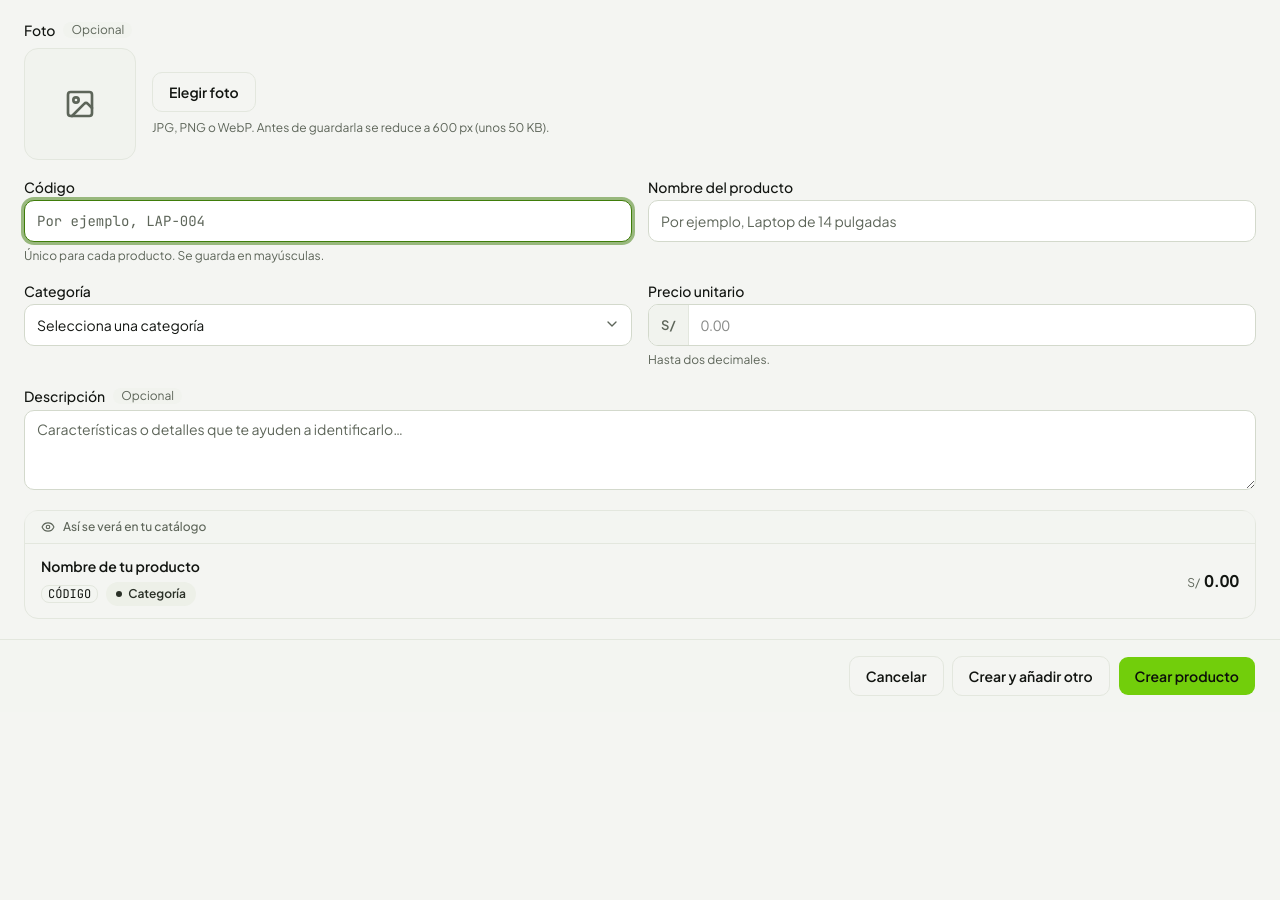
Test: ProductForm › muestra el código repetido junto al campo y conserva el borrador
This screenshot has width=1280, height=900.
Type " lap-004 " into the field labelled "Código" at [328, 221], box [24,200,632,242]
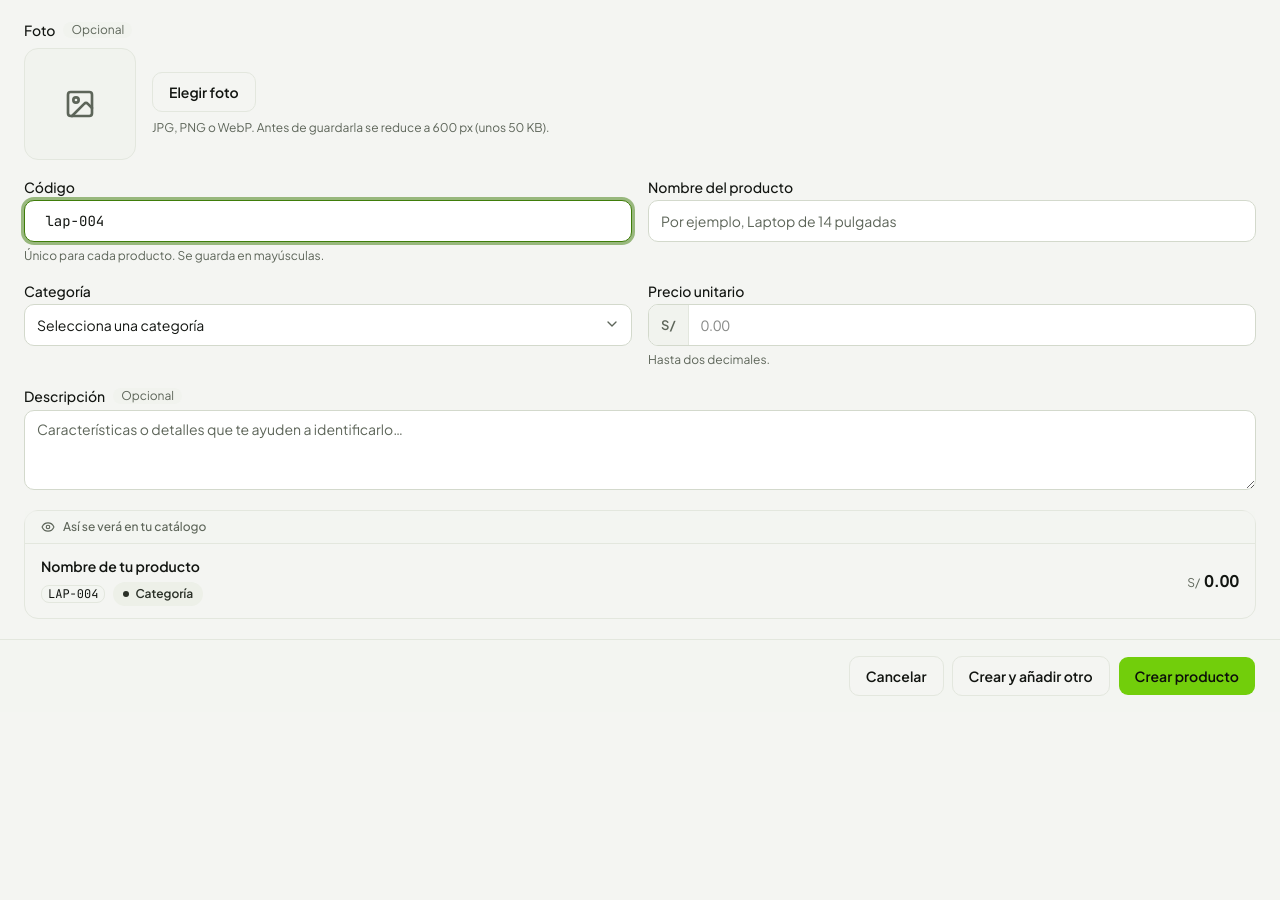
Type "Laptop de 13 pulgadas" into the field labelled "Nombre del producto" at [952, 221], box [648,200,1256,242]
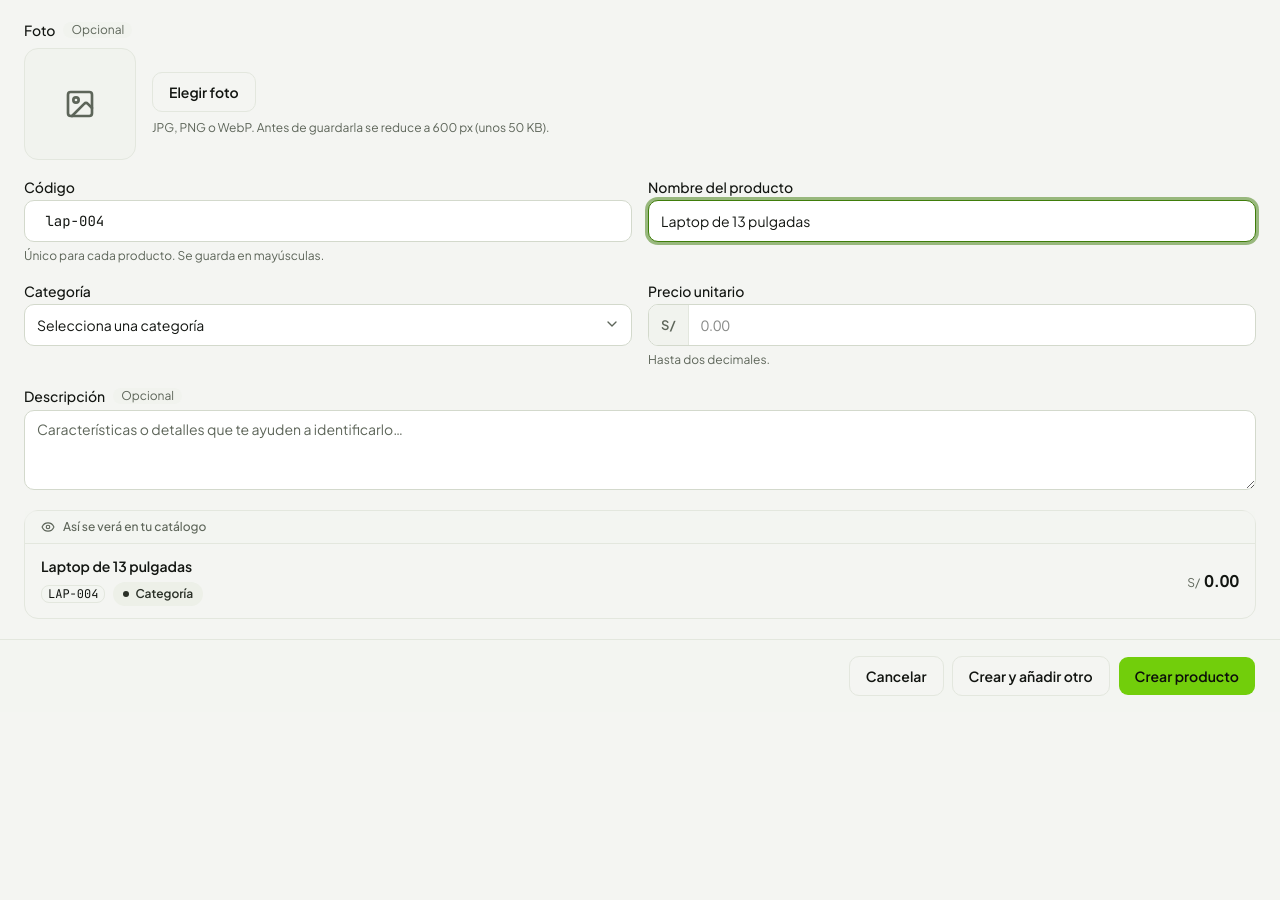
Select "Laptops" in the dropdown labelled "Categoría" at [328, 325], box [24,304,632,346]
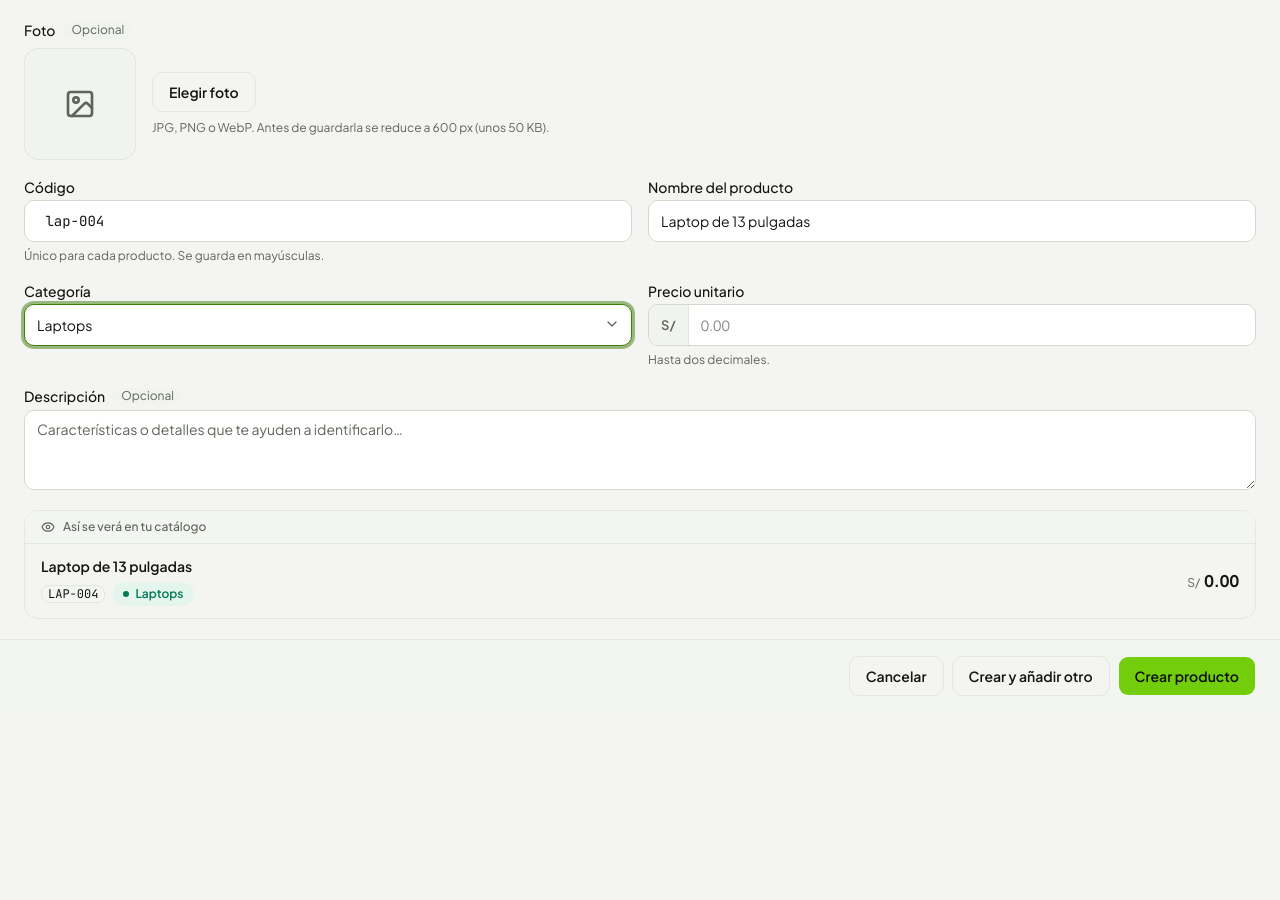
Type "1299,5" into the field labelled "Precio unitario" at [972, 325], box [689,305,1255,345]
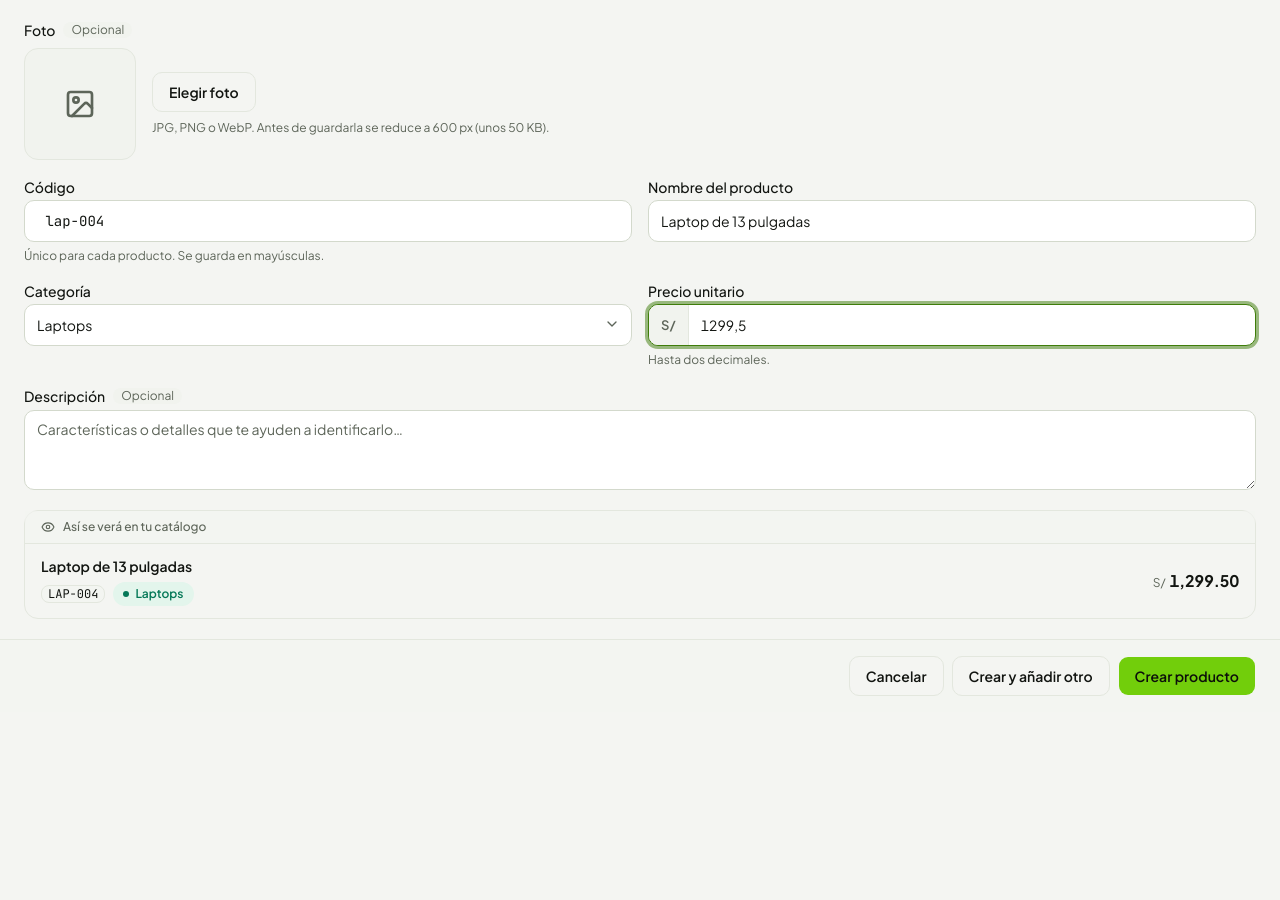
Click the button "Crear producto" at [1187, 676], box [1118,656,1256,696]
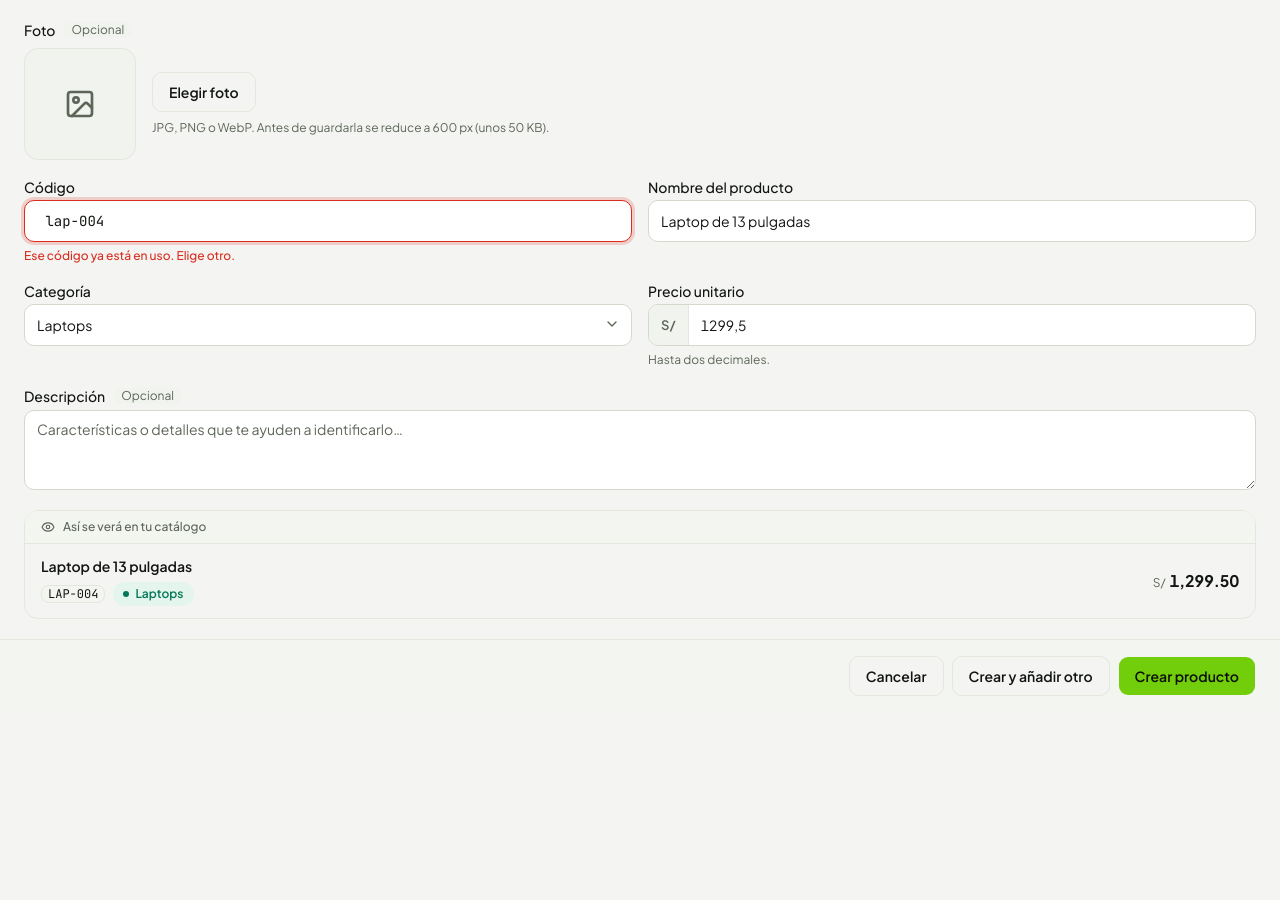
expect the text "Ese código ya está en uso. Elige otro." is shown: met, box [24,248,235,263]
